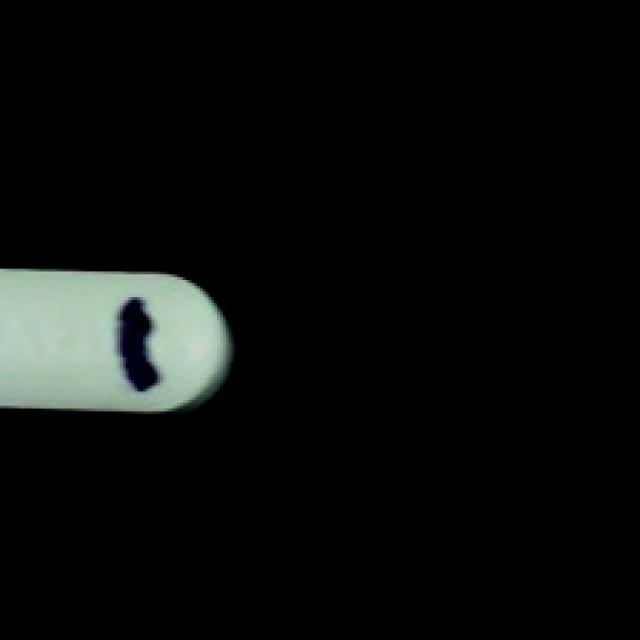defected: (0, 266, 237, 426)
